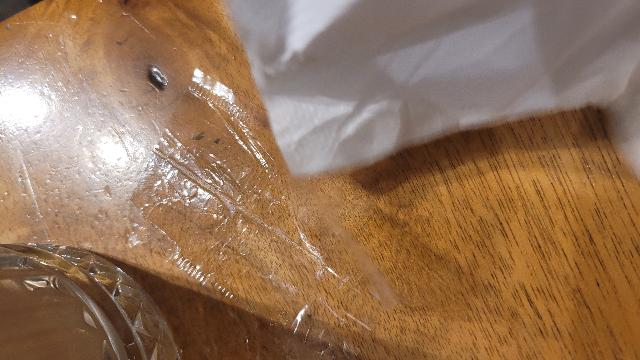Plastik: (124, 69, 399, 351)
